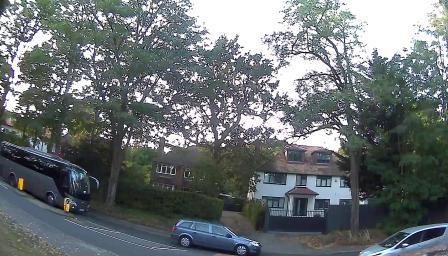Cars: (175, 220, 259, 252), (364, 226, 448, 256)
bus: (4, 143, 92, 219)
